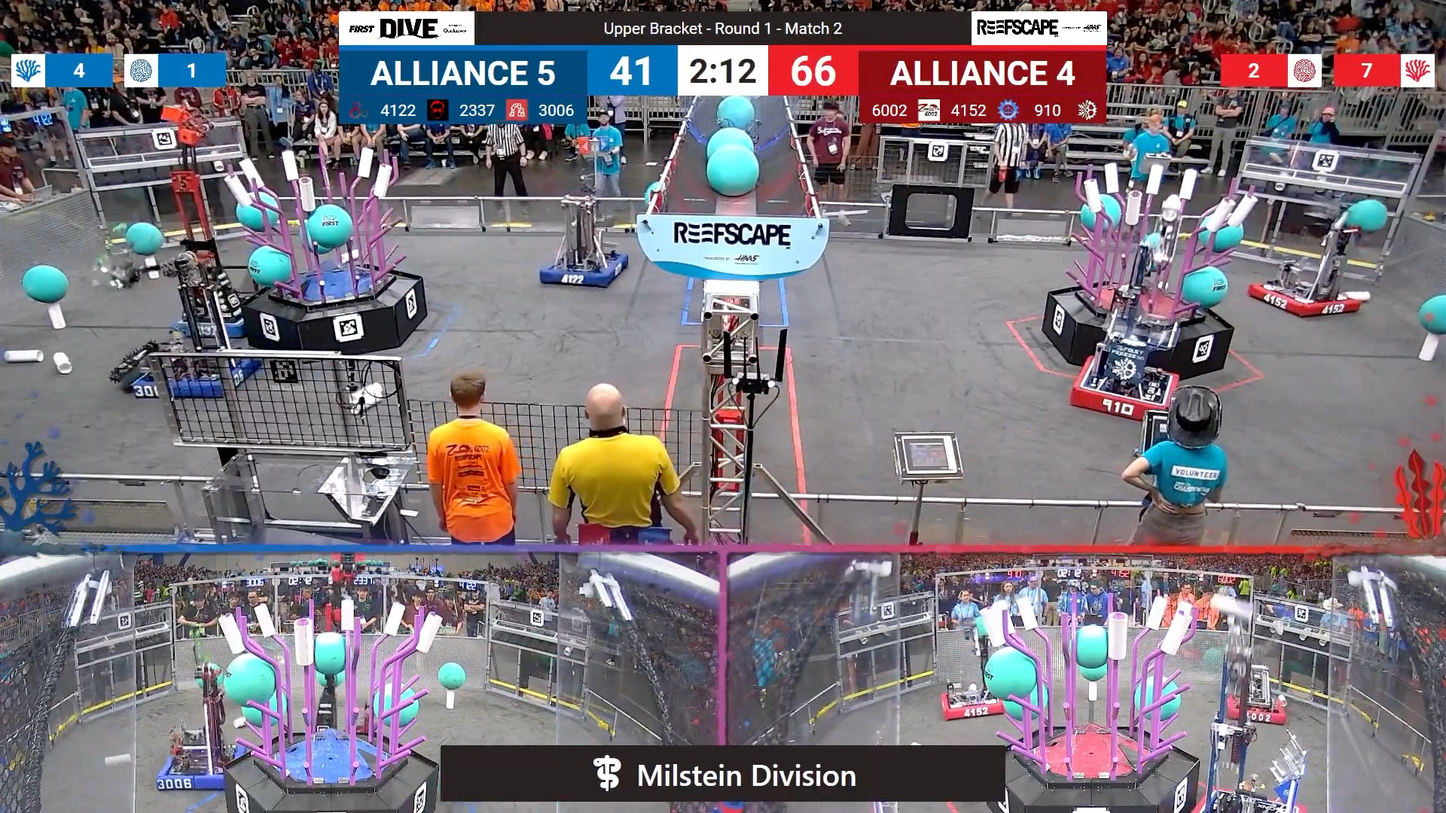bumpers: (121, 343, 258, 400), (1063, 360, 1182, 422), (1239, 282, 1366, 324), (153, 739, 246, 795), (171, 288, 256, 343), (533, 248, 635, 291), (937, 684, 1009, 725), (1220, 691, 1294, 726)
